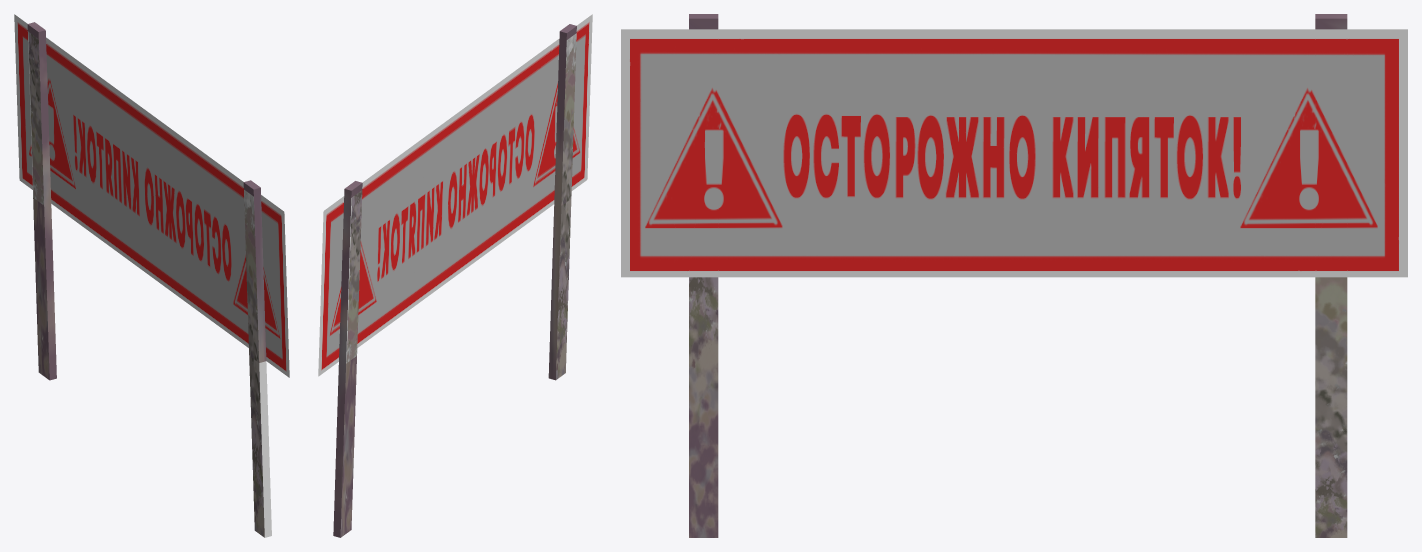
The model's file is кипятокЗнак.fbx.
3 views of the same model, side by side, from view 1: azimuth 30°, elevation 25°; view 2: azimuth 150°, elevation 25°; view 3: azimuth 270°, elevation 25° (orthographic). The views are drawn at different scales.
Parts seen in each view (by area): view 1: Plane; view 2: Plane; view 3: Plane.
Part boxes in pixels (x1=…): Plane: x1=14, y1=14, x2=289, y2=537; Plane: x1=318, y1=14, x2=592, y2=537; Plane: x1=621, y1=14, x2=1407, y2=537.
Size of the model in its own units: 22.87 by 419 by 584.
1 material, 1 textured.
